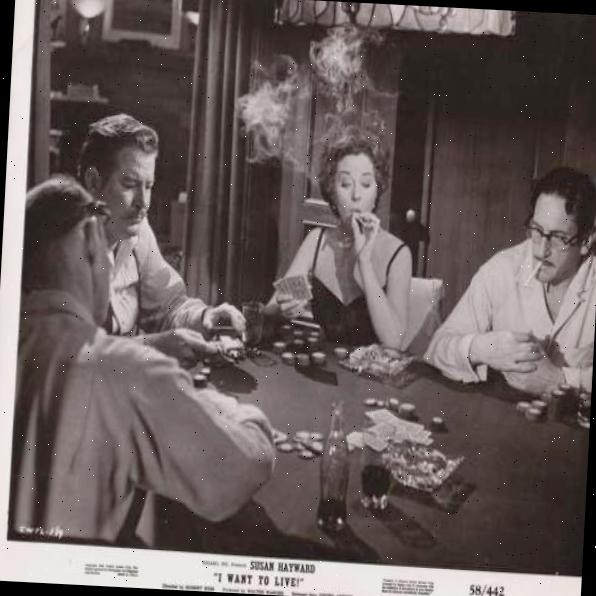smoke: (231, 79, 306, 178), (307, 27, 378, 96)
